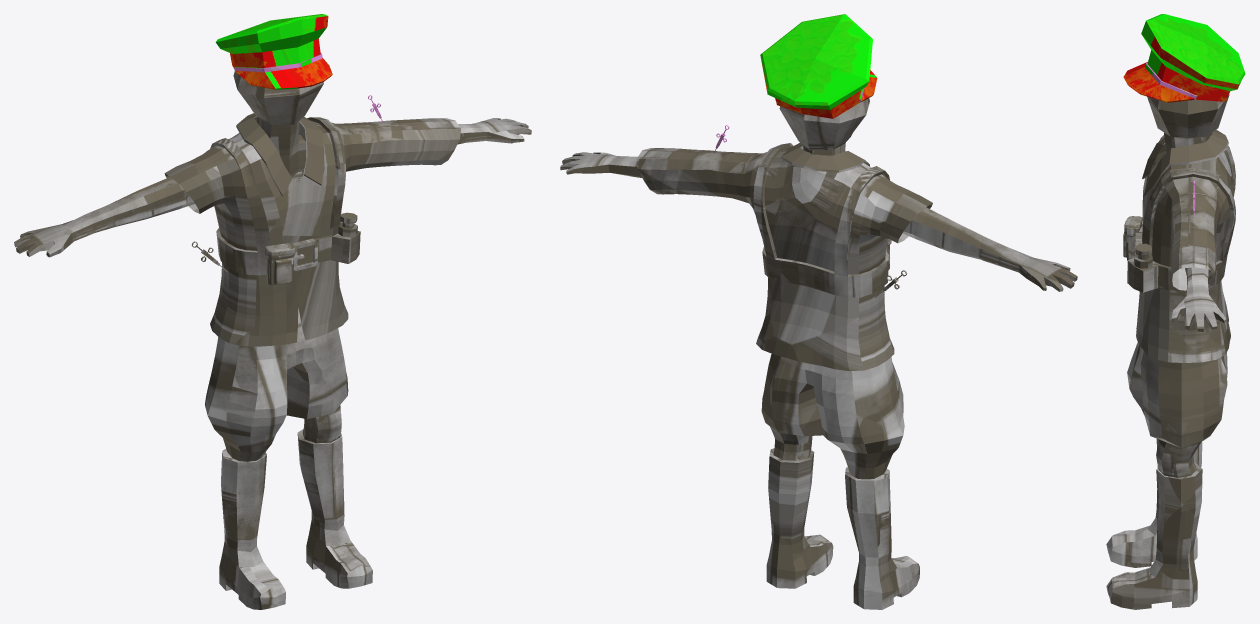
File: Enemy_npc.fbx
3 renders of one model, left to right at view 1: azimuth 30°, elevation 25°; view 2: azimuth 150°, elevation 25°; view 3: azimuth 270°, elevation 25°, orthographic.
Visible parts, largest first — view 1: Body; view 2: Body; view 3: Body.
Part boxes in pixels (x1,y1,x2,y2): Body: (14,14,531,609); Body: (560,14,1077,609); Body: (1106,14,1245,609).
Bounding box in the file's own units: 413 × 440 × 98.82.
